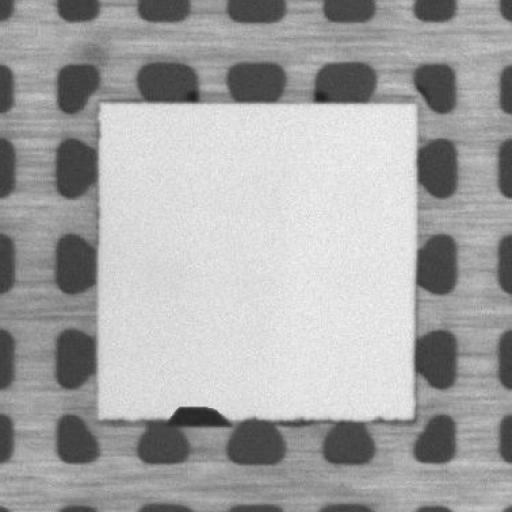DIE_BROKEN: (162, 402, 232, 426)
